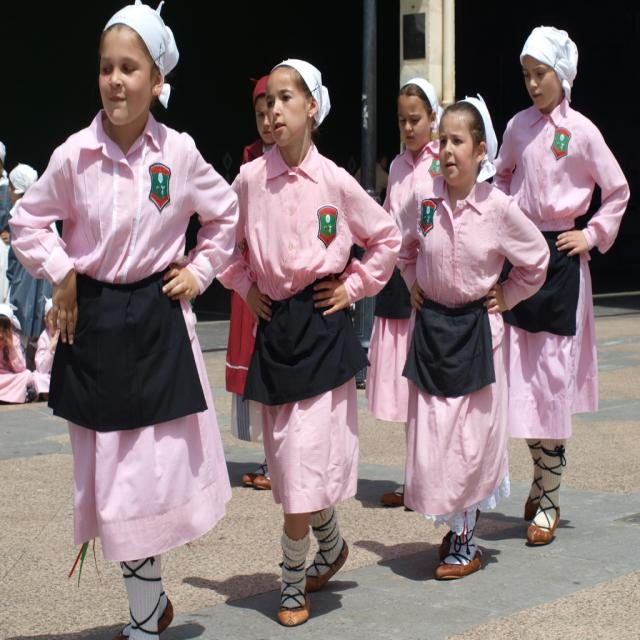no_helmet: (72, 64, 202, 177), (493, 86, 590, 171), (248, 116, 352, 192), (427, 144, 514, 222)
